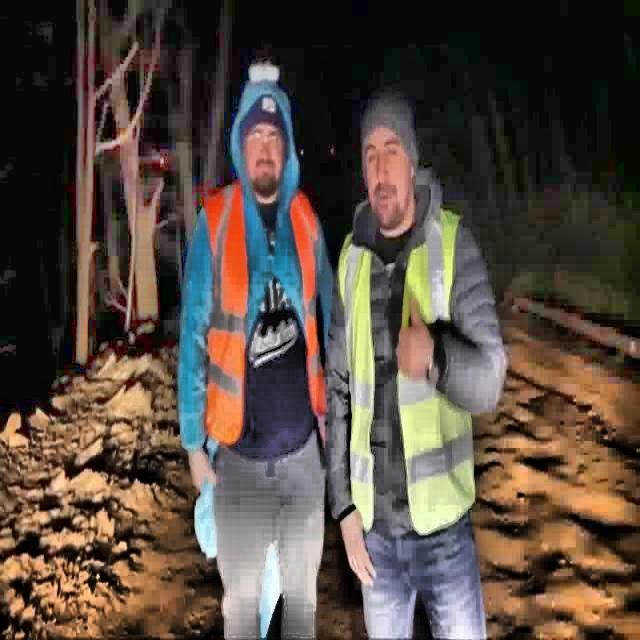safety_jacket: (337, 210, 477, 538), (204, 190, 319, 444)
